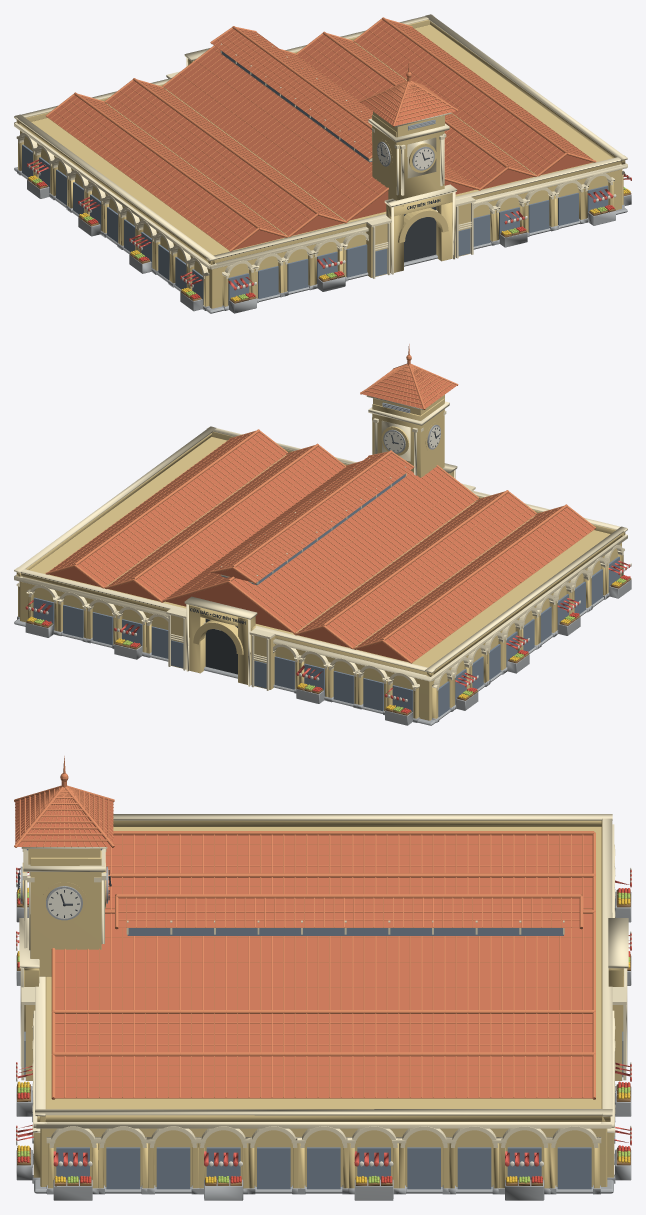
Rendered from cho-ben-thanh.glb.
3 views of the same model, one above another, from view 1: azimuth 30°, elevation 25°; view 2: azimuth 150°, elevation 25°; view 3: azimuth 270°, elevation 25° (orthographic). The views are drawn at different scales.
Parts seen in each view (by area): view 1: Gabled hall roof, Finial ball, Arcade pier, Clock inset panel, Lantern louver, Clock bezel, Clock central pin, Scalloped canvas valance, Clock face, Wood produce bin; view 2: Gabled hall roof, Finial ball, Arcade pier, Clock inset panel, Lantern louver, Clock bezel, Clock central pin, Scalloped canvas valance, Clock face, Wood produce bin; view 3: Gabled hall roof, Finial ball, Arcade pier, Clock inset panel, Lantern louver, Clock bezel, Scalloped canvas valance, Clock face, Wood produce bin, Market fruit, Market fruit.032, Market fruit.016.
Part boxes in pixels (bbox=[...]): Gabled hall roof: bbox=[47, 20, 592, 249]; Finial ball: bbox=[45, 17, 596, 251]; Arcade pier: bbox=[16, 19, 625, 308]; Clock inset panel: bbox=[14, 14, 627, 278]; Lantern louver: bbox=[22, 51, 608, 305]; Clock bezel: bbox=[14, 120, 631, 313]; Clock central pin: bbox=[377, 144, 440, 262]; Scalloped canvas valance: bbox=[27, 159, 631, 290]; Clock face: bbox=[28, 143, 630, 289]; Wood produce bin: bbox=[27, 178, 631, 303]; Gabled hall roof: bbox=[49, 370, 594, 662]; Finial ball: bbox=[45, 344, 595, 663]; Arcade pier: bbox=[16, 395, 625, 720]; Clock inset panel: bbox=[14, 395, 627, 690]; Lantern louver: bbox=[33, 402, 619, 717]; Clock bezel: bbox=[14, 403, 631, 725]; Clock central pin: bbox=[190, 427, 440, 674]; Scalloped canvas valance: bbox=[25, 560, 630, 701]; Clock face: bbox=[28, 426, 631, 702]; Wood produce bin: bbox=[26, 578, 631, 715]; Gabled hall roof: bbox=[15, 793, 592, 1097]; Finial ball: bbox=[14, 756, 595, 1099]; Arcade pier: bbox=[22, 820, 623, 1188]; Clock inset panel: bbox=[19, 814, 628, 1147]; Lantern louver: bbox=[24, 848, 623, 1189]; Clock bezel: bbox=[16, 848, 631, 1200]; Scalloped canvas valance: bbox=[16, 867, 631, 1166]; Clock face: bbox=[16, 868, 631, 1166]; Wood produce bin: bbox=[17, 889, 630, 1186]; Market fruit: bbox=[17, 887, 630, 1183]; Market fruit.032: bbox=[17, 888, 630, 1183]; Market fruit.016: bbox=[17, 892, 630, 1183].
Size of the model in its own units: 34.25 by 14.67 by 28.34.
